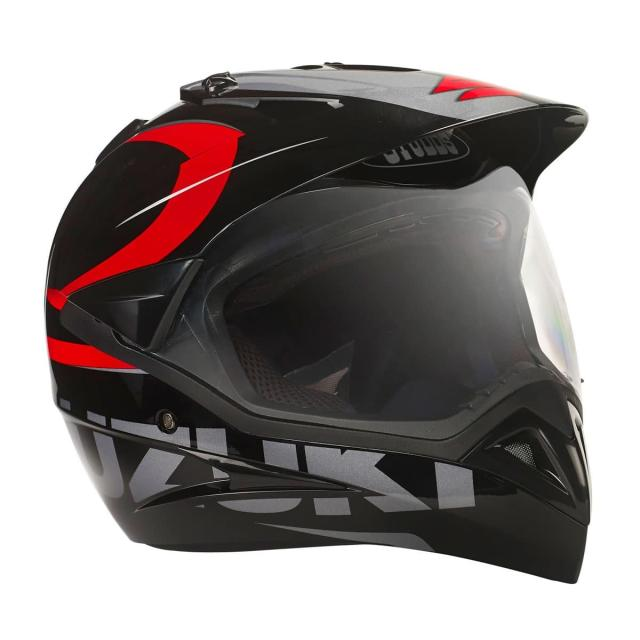Helm: (31, 57, 599, 592)
